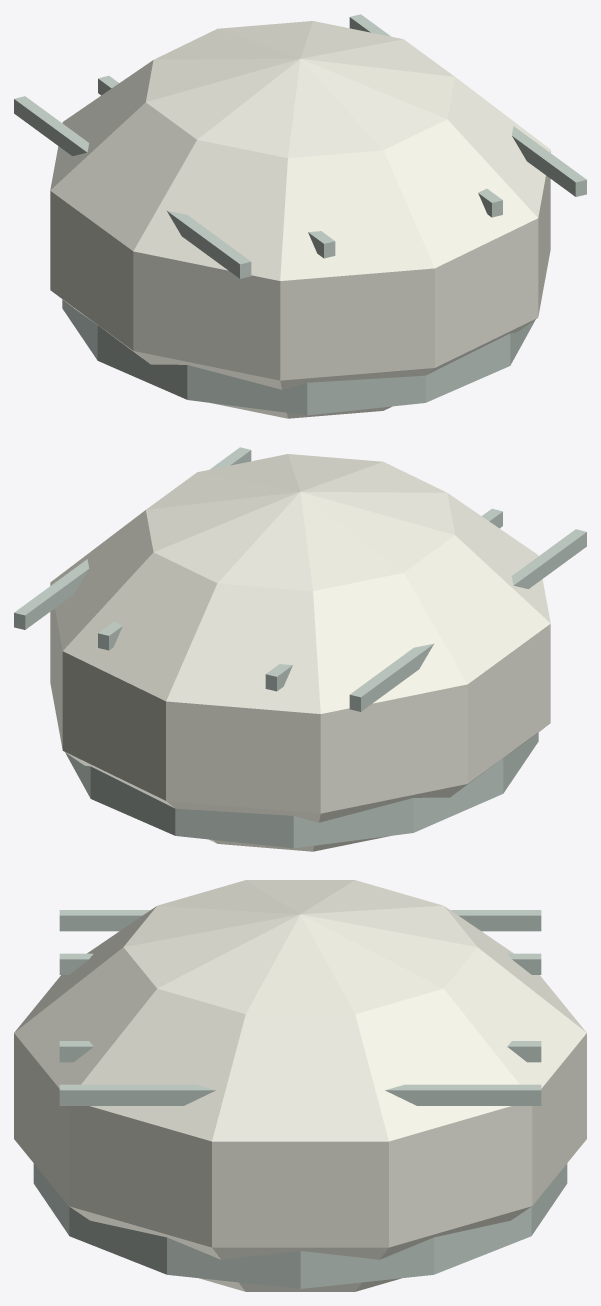
The model's file is cosmetic_hat_hairnet.glb.
3 views of the same model, one above another, from view 1: azimuth 30°, elevation 25°; view 2: azimuth 150°, elevation 25°; view 3: azimuth 270°, elevation 25° (orthographic). The views are drawn at different scales.
Parts seen in each view (by area): view 1: cosmetic_hat_hairnet; view 2: cosmetic_hat_hairnet; view 3: cosmetic_hat_hairnet.
Part boxes in pixels (box(x1,y1,x2,y2)): cosmetic_hat_hairnet: box(14, 14, 586, 418); cosmetic_hat_hairnet: box(14, 447, 586, 851); cosmetic_hat_hairnet: box(14, 880, 586, 1291).
Size of the model in its own units: 0.2985 by 0.22 by 0.3329.
Materials: 1 (1 with a texture image).
